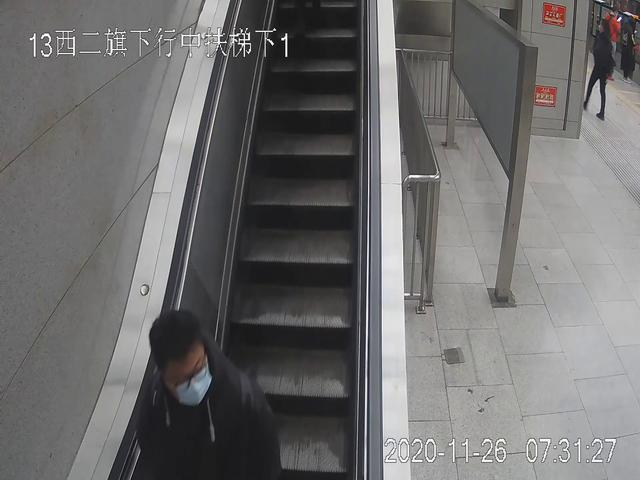person: (141, 310, 281, 480), (585, 18, 615, 122), (599, 9, 620, 83)
